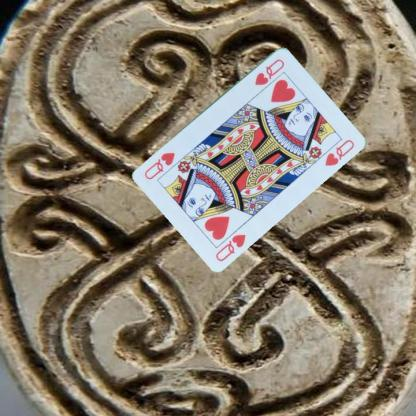Qh: (213, 231, 247, 262), (252, 56, 286, 86)
